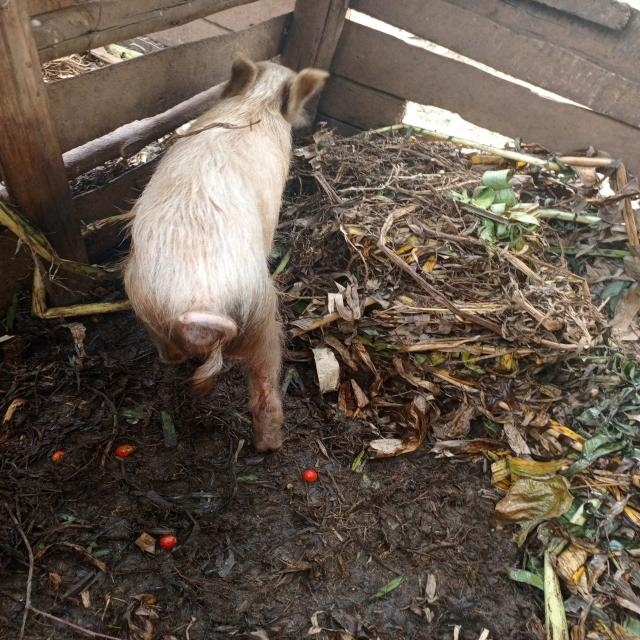pig: (65, 28, 378, 476)
